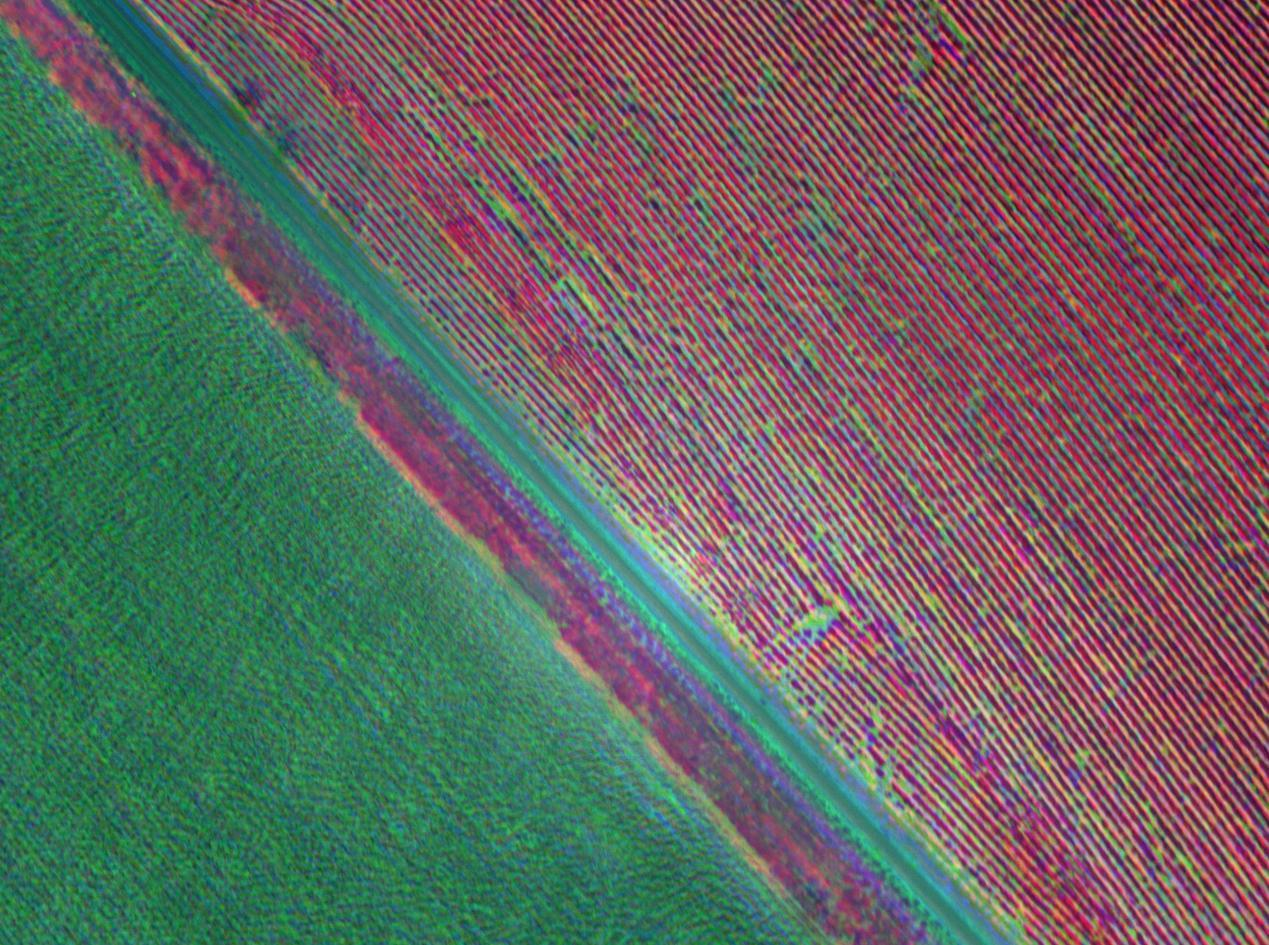dc: (808, 620, 814, 625), (826, 610, 831, 615), (917, 61, 922, 66), (645, 532, 649, 537), (816, 706, 820, 711), (767, 74, 771, 78), (974, 394, 977, 397), (1007, 510, 1010, 513)
